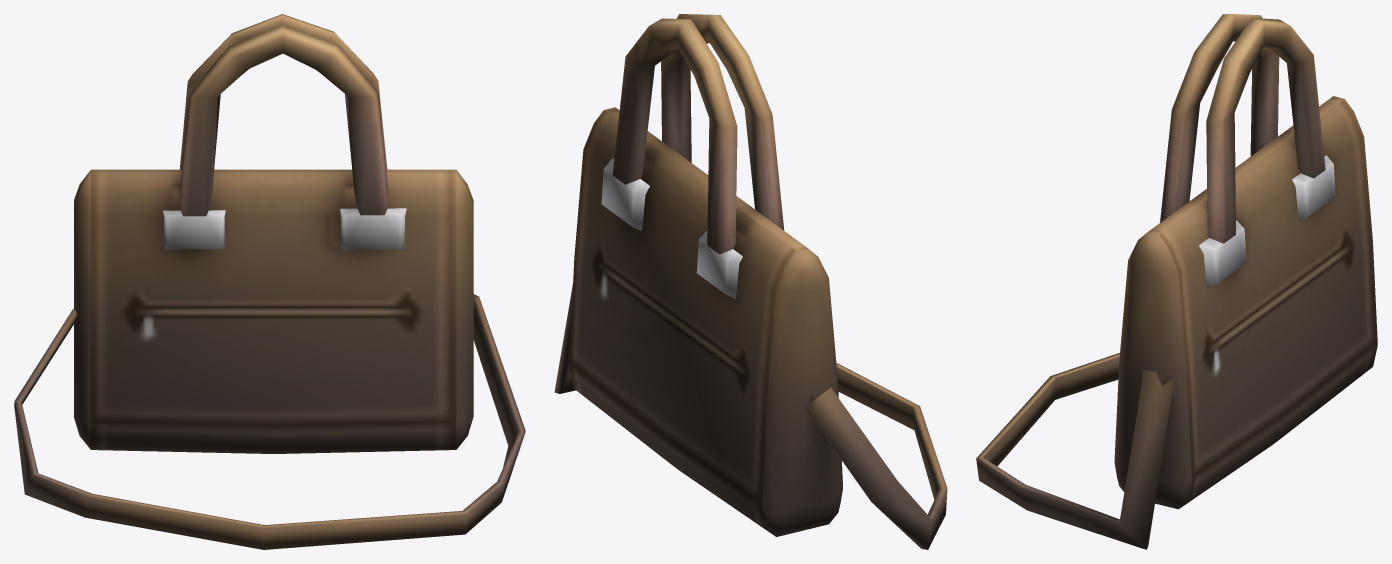
The model's file is TouKuiZheJia_01_gongwenbao_01.FBX.
The picture shows the model from 3 angles, left to right: view 1: azimuth 30°, elevation 25°; view 2: azimuth 150°, elevation 25°; view 3: azimuth 270°, elevation 25°; orthographic projection. The views are drawn at different scales.
Parts seen in each view (by area): view 1: TouKuiZheJia_gongwenbao_01; view 2: TouKuiZheJia_gongwenbao_01; view 3: TouKuiZheJia_gongwenbao_01.
Part boxes in pixels (x1,y1,x2,y2): TouKuiZheJia_gongwenbao_01: (14, 14, 525, 549); TouKuiZheJia_gongwenbao_01: (554, 14, 947, 549); TouKuiZheJia_gongwenbao_01: (976, 14, 1377, 549).
Size of the model in its own units: 262 by 258 by 213.
